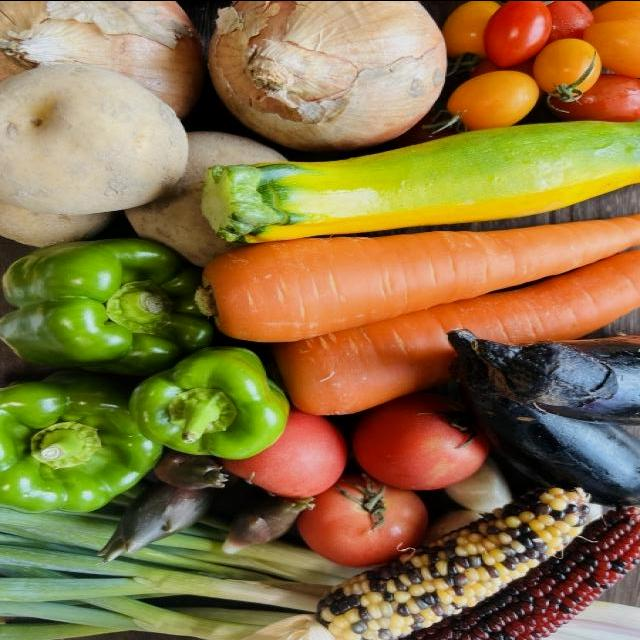carrot: (277, 244, 640, 417), (199, 209, 640, 345)
eggplant: (447, 333, 640, 505), (447, 332, 639, 418), (481, 340, 640, 424)
onion: (207, 1, 454, 155), (1, 1, 215, 139)
